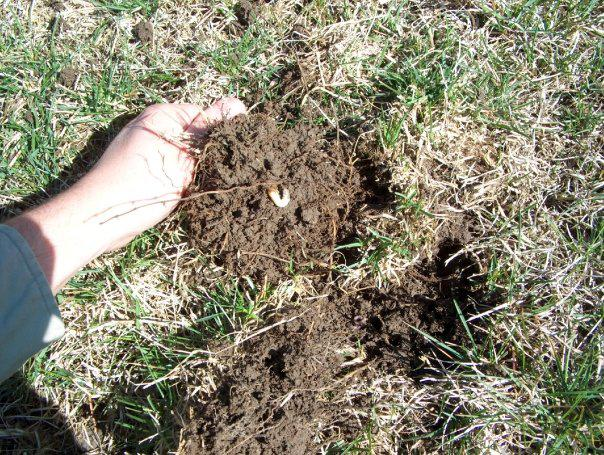grub: (257, 182, 300, 213)
